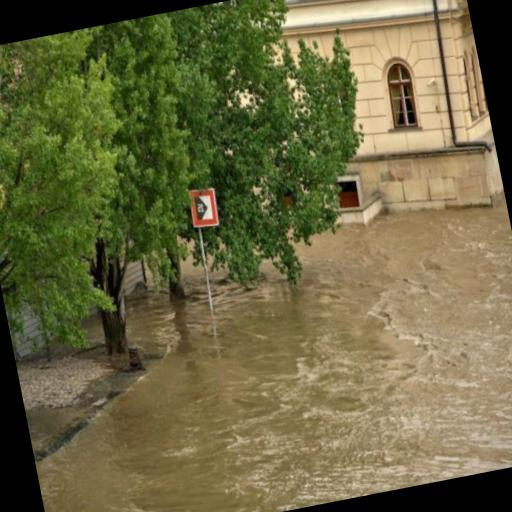flood: (36, 197, 512, 512)
house: (265, 0, 507, 241)
